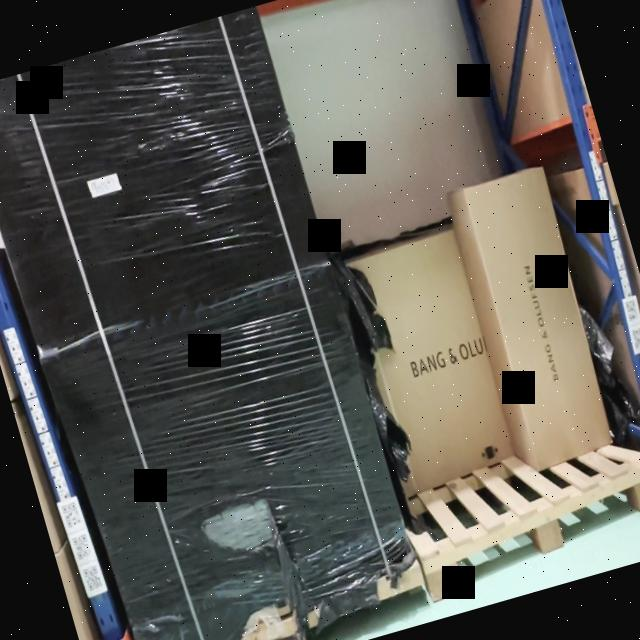box: (466, 170, 611, 462)
